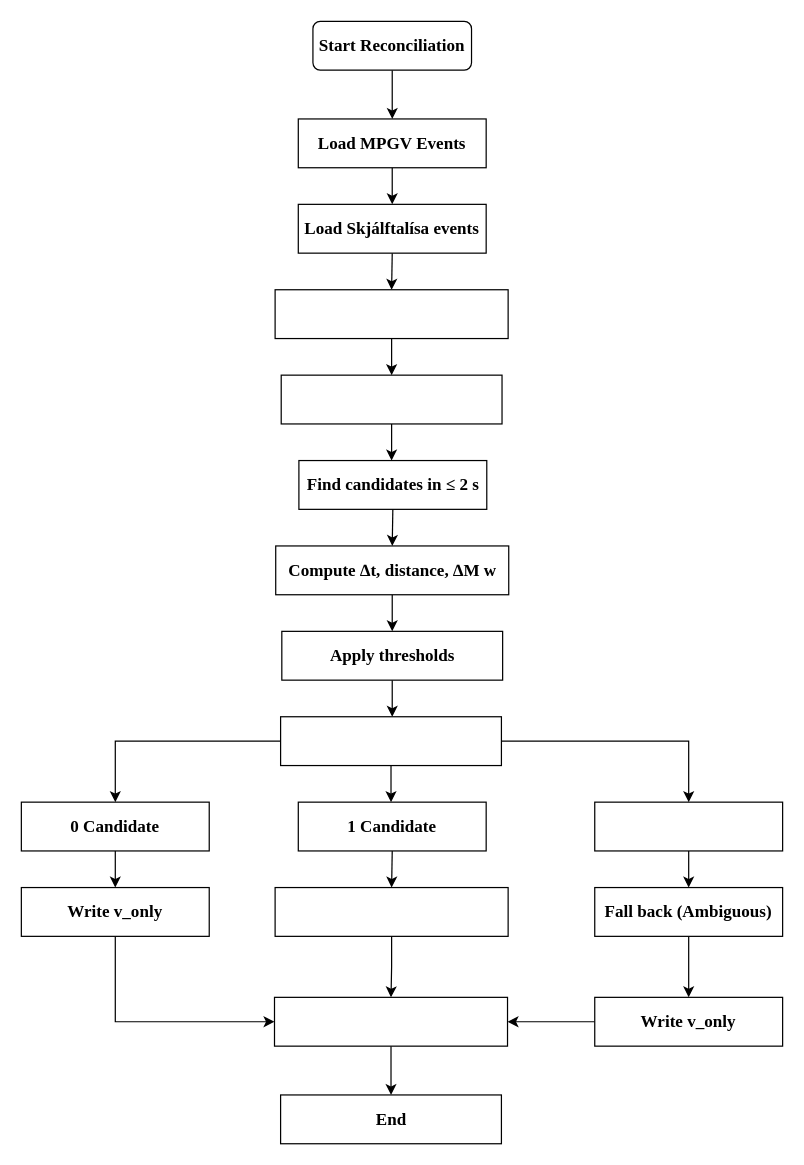
Image size: 804x1165. Some labels were removed from this diagram. The centre of each missing label's shape, as x and y in pixels:
Candidate count: the point at 390,741
For each MPGV Event: the point at 391,399
Index Skjálftalísa by time: the point at 391,314
Update earthquake_merged: the point at 390,1021
Write matched: the point at 391,911
≥ 2 candidates: the point at 688,826
